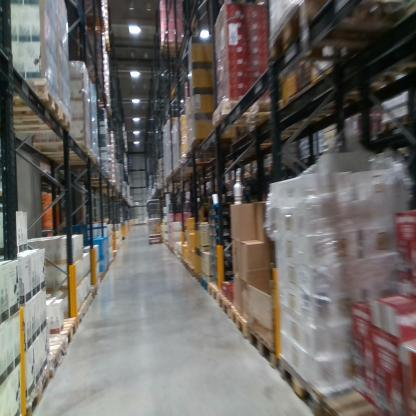pallet: (262, 5, 414, 65), (277, 343, 359, 415), (207, 93, 309, 135), (9, 75, 60, 121), (10, 105, 71, 140), (319, 387, 392, 413), (250, 320, 280, 372), (25, 364, 53, 414), (207, 279, 252, 306), (32, 143, 91, 162), (217, 288, 255, 316), (43, 335, 67, 375), (232, 302, 252, 340), (54, 314, 77, 346), (200, 275, 225, 291)
